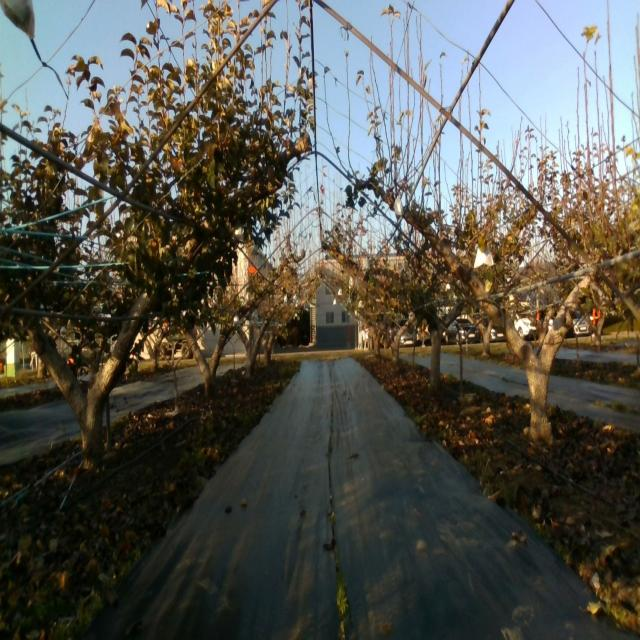pearbags: (474, 247, 494, 269), (231, 220, 245, 242), (394, 198, 404, 224)
